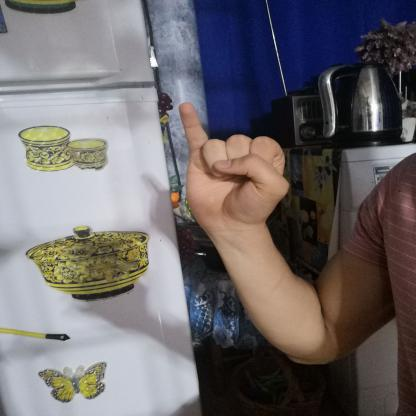MEEM: (158, 95, 306, 241)
